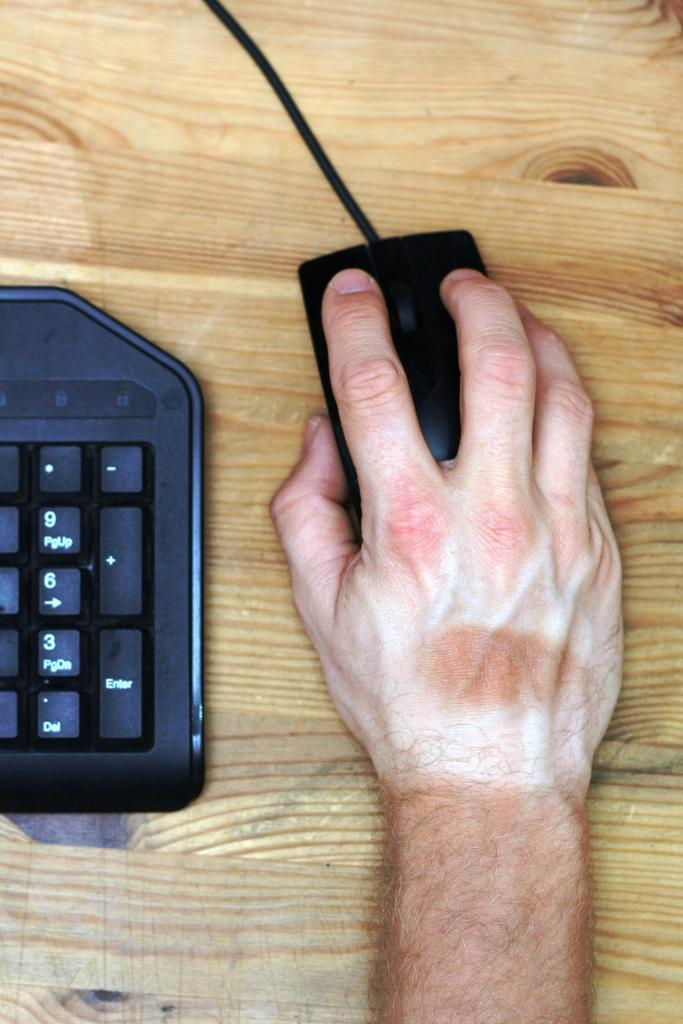Computer-keyboard: (0, 287, 206, 817)
